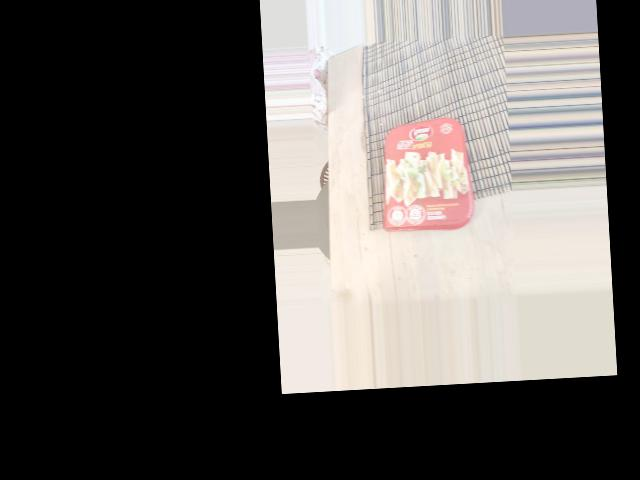cheese: (383, 117, 466, 237)
